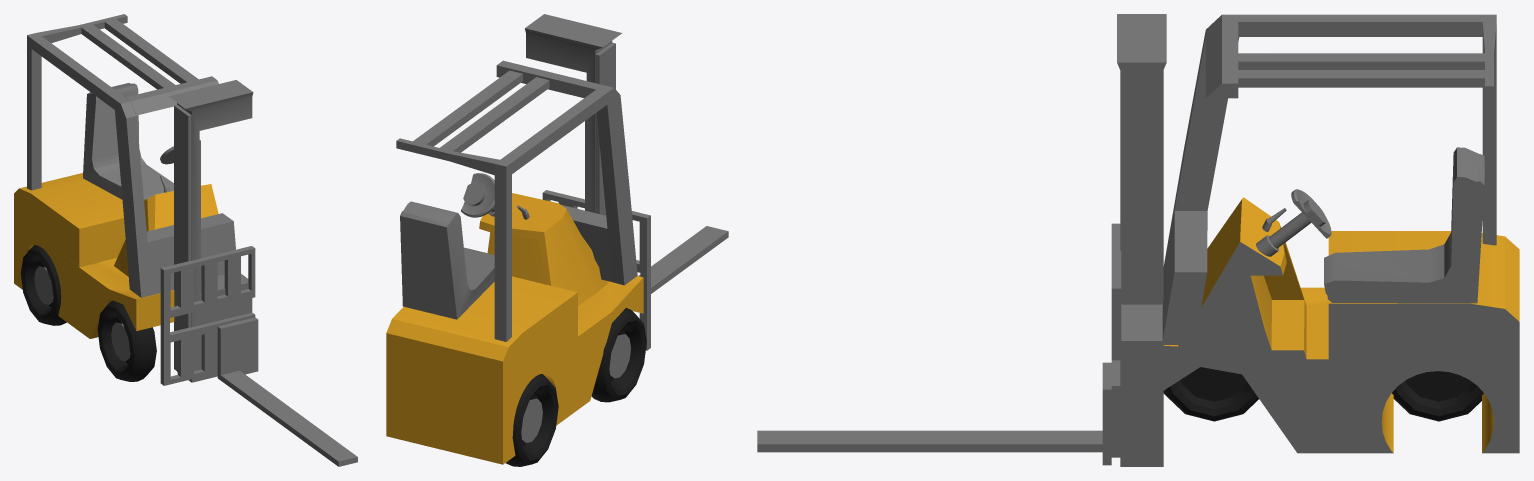
Rendered from forklift_CUT1.fbx.
3 views of the same model, side by side, from view 1: azimuth 30°, elevation 25°; view 2: azimuth 150°, elevation 25°; view 3: azimuth 270°, elevation 25° (orthographic). The views are drawn at different scales.
Parts seen in each view (by area): view 1: Torus.003; view 2: Torus.003; view 3: Torus.003.
Boxes of the visible parts, x1,y1,x2,y2 form: Torus.003: (14, 14, 357, 466); Torus.003: (386, 14, 728, 466); Torus.003: (757, 14, 1519, 466).
Size of the model in its own units: 115 by 300 by 491.
